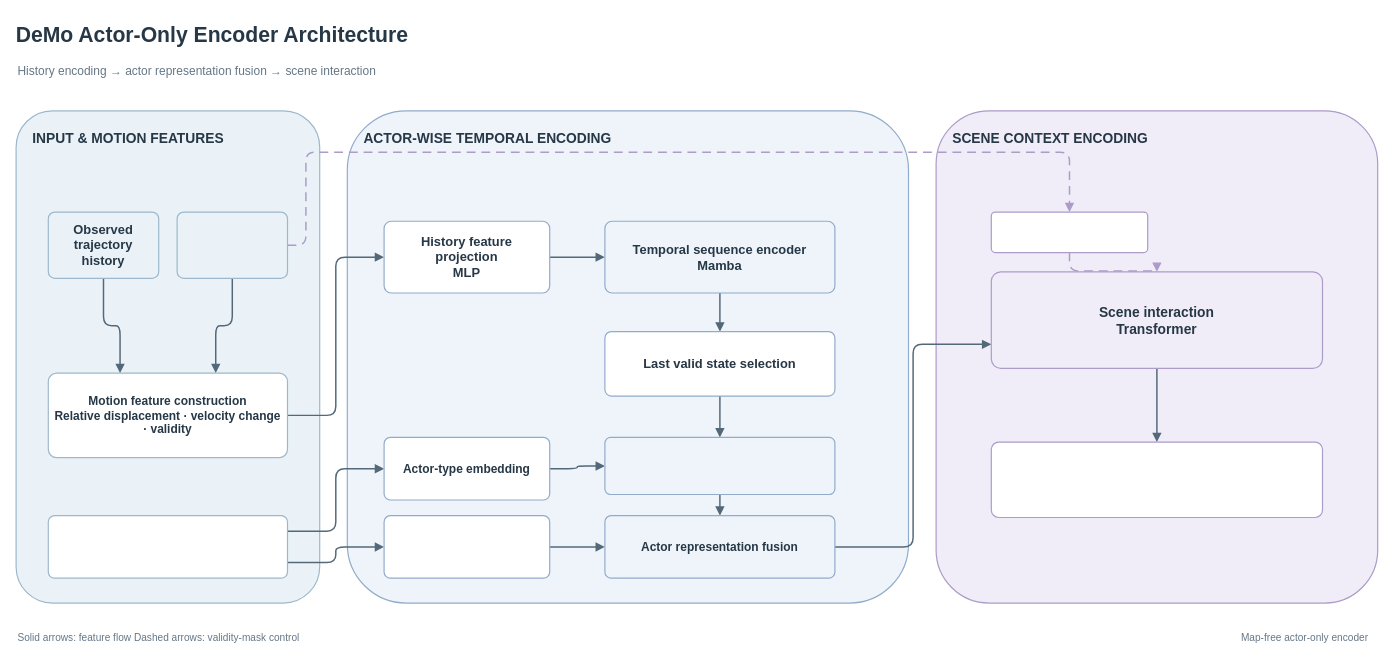
This 1395x665 diagram has some shape labels left out. Each missing label, with the centre of its shape:
Actor metadata Center position · heading · actor type: the point at 167,546
Actor validity mask: the point at 1069,232
Feature addition: the point at 719,465
History validity mask: the point at 232,244
Position & heading projection MLP: the point at 466,546
Scene-context actor representations: the point at 1156,479
